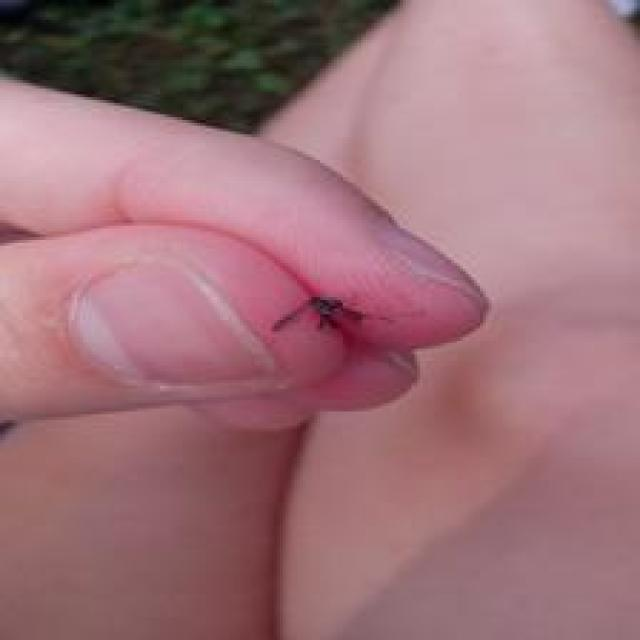Aedes albopictus: (270, 293, 367, 338)
